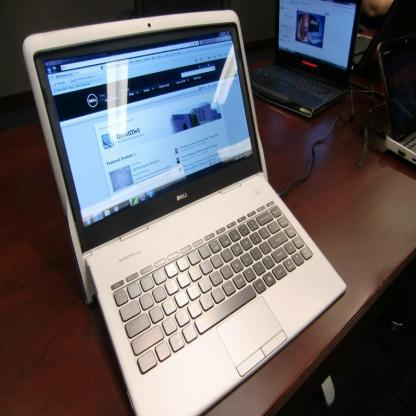board: (21, 6, 346, 416), (248, 1, 361, 119), (379, 34, 416, 164), (353, 0, 416, 74)
